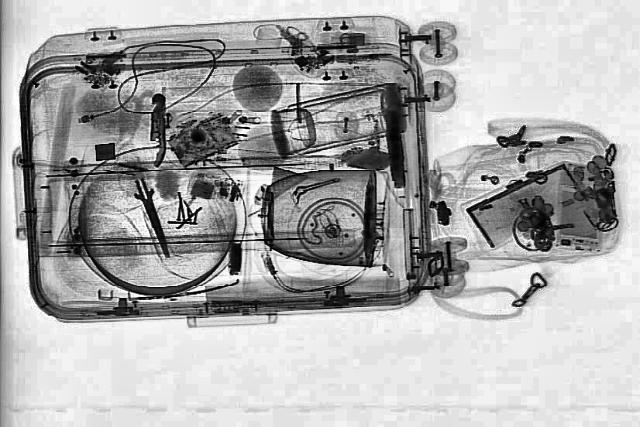Knife: (128, 178, 178, 258)
